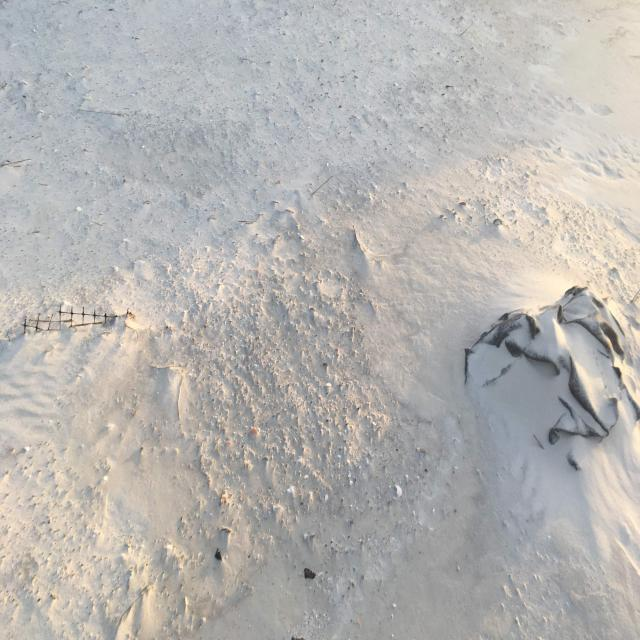litter: (461, 295, 639, 444), (21, 305, 119, 333)
